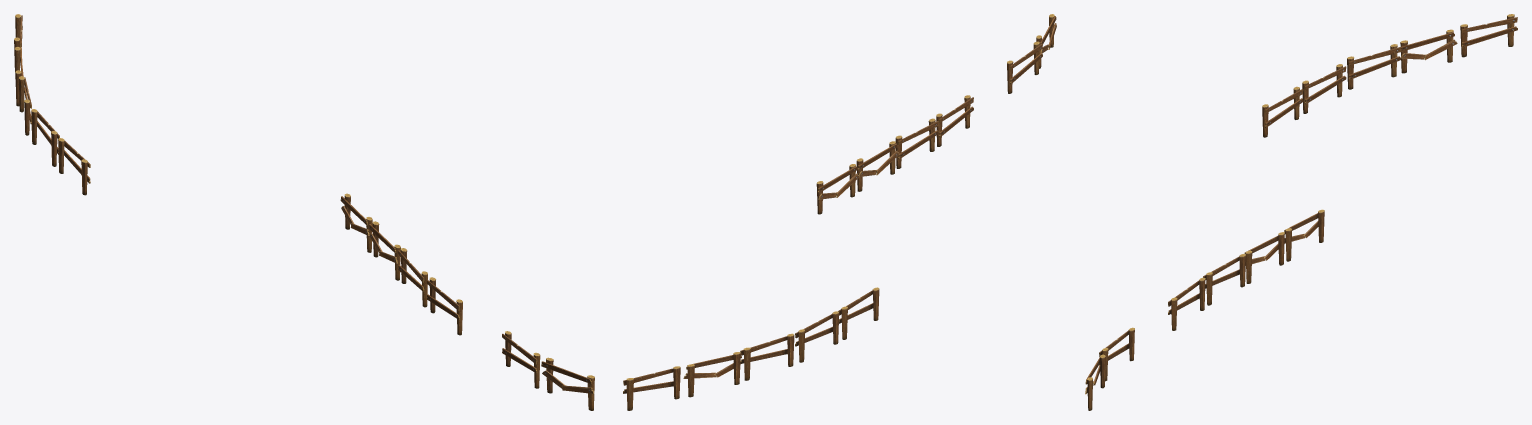
Rendered from Area_12_46.fbx.
3 renders of one model, left to right at view 1: azimuth 30°, elevation 25°; view 2: azimuth 150°, elevation 25°; view 3: azimuth 330°, elevation 25°, orthographic. The views are drawn at different scales.
Visible parts, largest first — view 1: Area_12_46; view 2: Area_12_46; view 3: Area_12_46.
Part boxes in pixels (bbox=[...]): Area_12_46: bbox=[14, 14, 594, 410]; Area_12_46: bbox=[623, 14, 1056, 410]; Area_12_46: bbox=[1085, 14, 1517, 410].
Bounding box in the file's own units: 733 × 149 × 3943.
